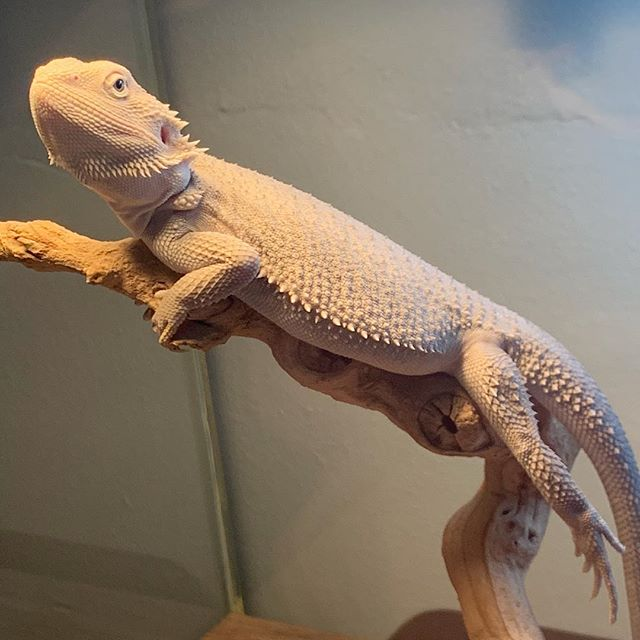bearded: (30, 54, 639, 630)
